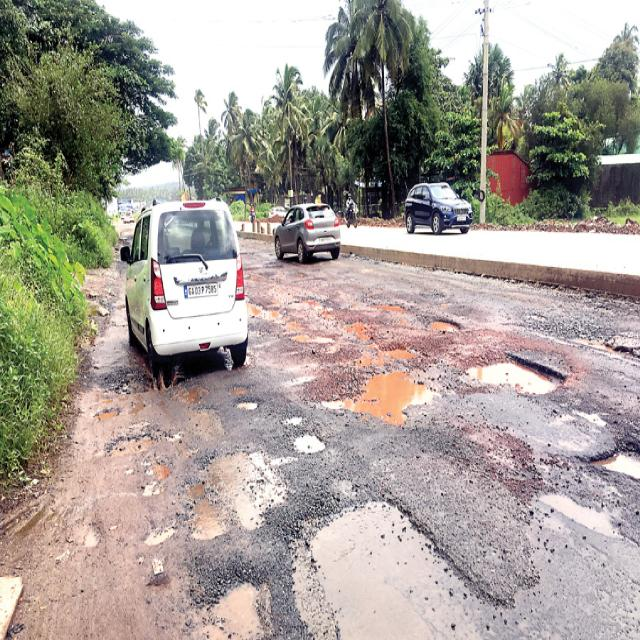Pothole: (292, 511, 480, 640), (188, 453, 255, 539), (351, 373, 416, 426), (539, 494, 617, 535), (471, 364, 556, 394), (218, 586, 258, 640)
